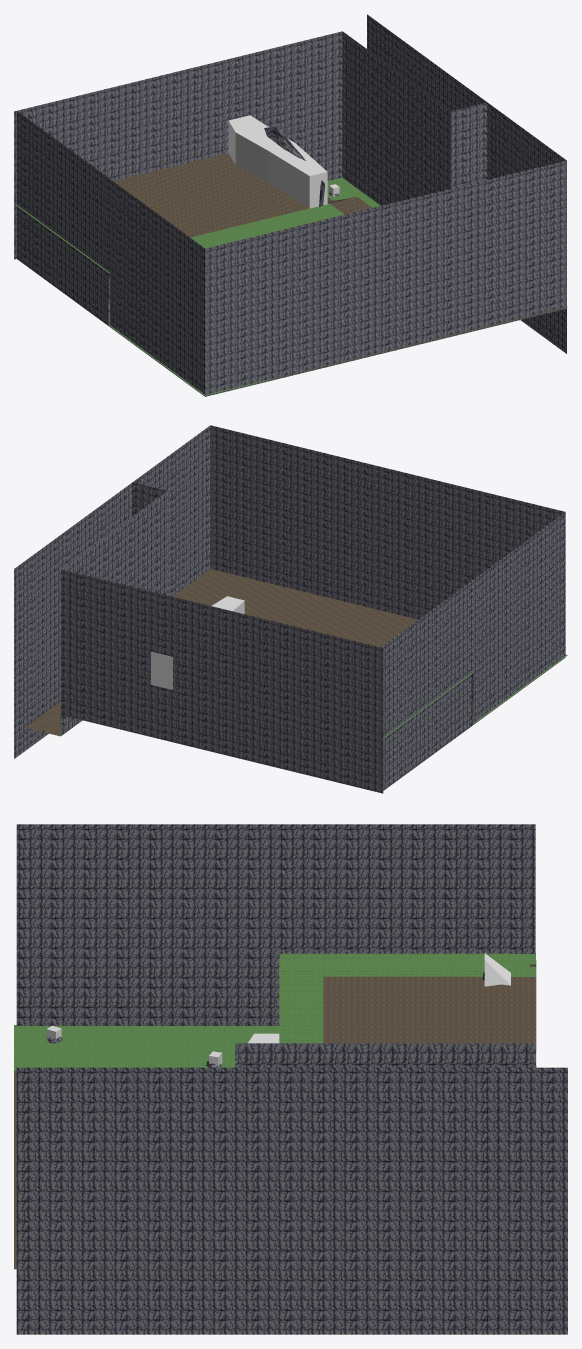
The model's file is Mapa2Jam.glb.
3 views of the same model, one above another, from view 1: azimuth 30°, elevation 25°; view 2: azimuth 150°, elevation 25°; view 3: azimuth 270°, elevation 25° (orthographic). The views are drawn at different scales.
Visible parts, largest first — view 1: Pared_col.005, Pared_col.003, Pared_col, Pared_col.001, Pared_col.006, Pared_col.002, Cubo_col.002, Pared_Oculta, Pared_col.004, Piedra.015, Pared_col.007; view 2: Pared_col, Pared_col.005, Pared_col.003, Pared_col.002, Pared_col.009, Pared_col.001, Pared_col.010, Cubo_col.002, Pared_Oculta; view 3: Pared_col.002, Pared_col.003, Pared_col.006, Pared_col.016, Pared_col.008, Cubo_col.011.
Boxes of the visible parts, x1,y1,x2,y2 form: Pared_col.005: (205,160,566,396); Pared_col.003: (17,111,205,396); Pared_col: (14,31,342,259); Pared_col.001: (342,31,451,205); Pared_col.006: (16,153,343,272); Pared_col.002: (367,14,566,353); Cubo_col.002: (228,115,327,208); Pared_Oculta: (451,102,487,188); Pared_col.004: (109,177,380,336); Piedra.015: (264,126,324,206); Pared_col.007: (327,197,372,214); Pared_col: (61,569,383,793); Pared_col.005: (210,425,564,619); Pared_col.003: (381,512,565,790); Pared_col.002: (14,425,210,758); Pared_col.009: (208,577,417,647); Pared_col.001: (61,491,167,595); Pared_col.010: (25,569,245,736); Cubo_col.002: (151,596,244,689); Pared_Oculta: (132,482,167,515); Pared_col.002: (16,1067,567,1334); Pared_col.003: (16,824,535,1025); Pared_col.006: (279,953,536,1050); Pared_col.016: (14,1025,235,1070); Pared_col.008: (235,1043,535,1067); Cubo_col.011: (484,953,510,986).
Bounding box in the file's own units: 22.84 × 11.59 × 21.8.
Materials: 6 (6 with a texture image).
